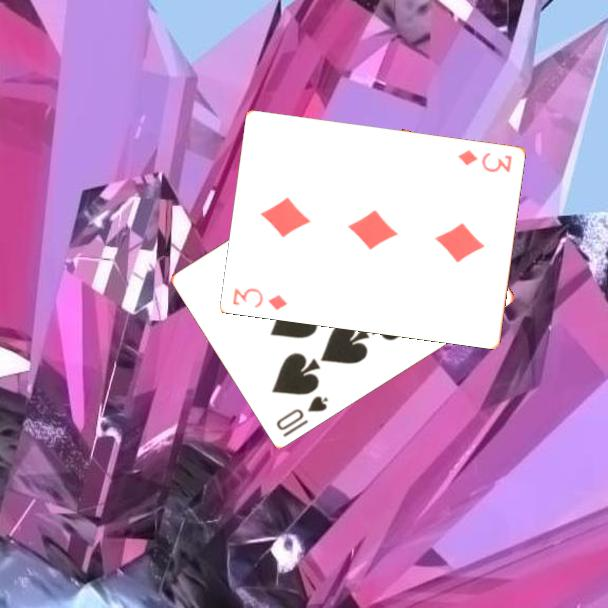d03: (230, 284, 291, 313), (455, 146, 515, 175)
s10: (273, 392, 331, 440)
